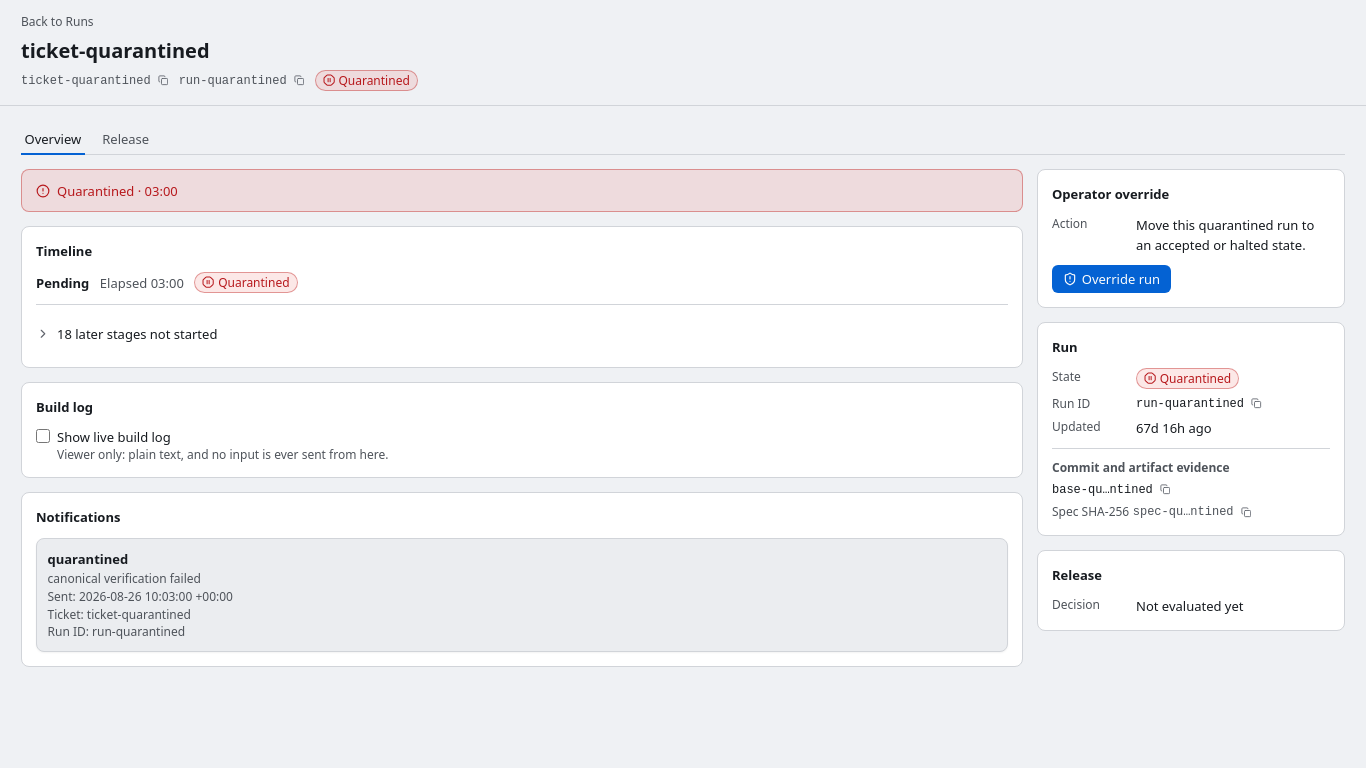
quarantined run override posts attribution and updates state
Click the button "Override run". click: (1111, 279)
box: top-left (1052, 265), bottom-right (1171, 293)
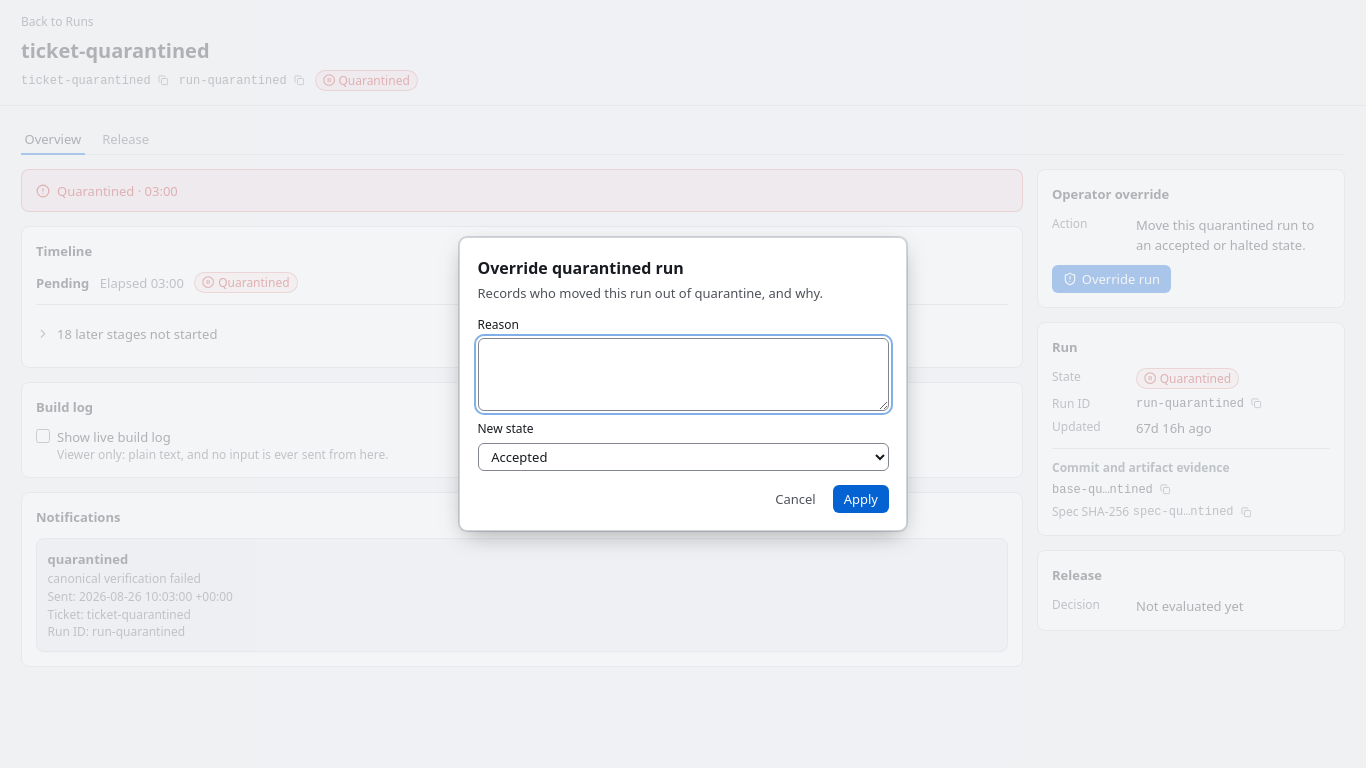
Type "Reviewed the verification evidence" into the text box labelled "Reason". click: (683, 375)
box: top-left (478, 338), bottom-right (888, 411)
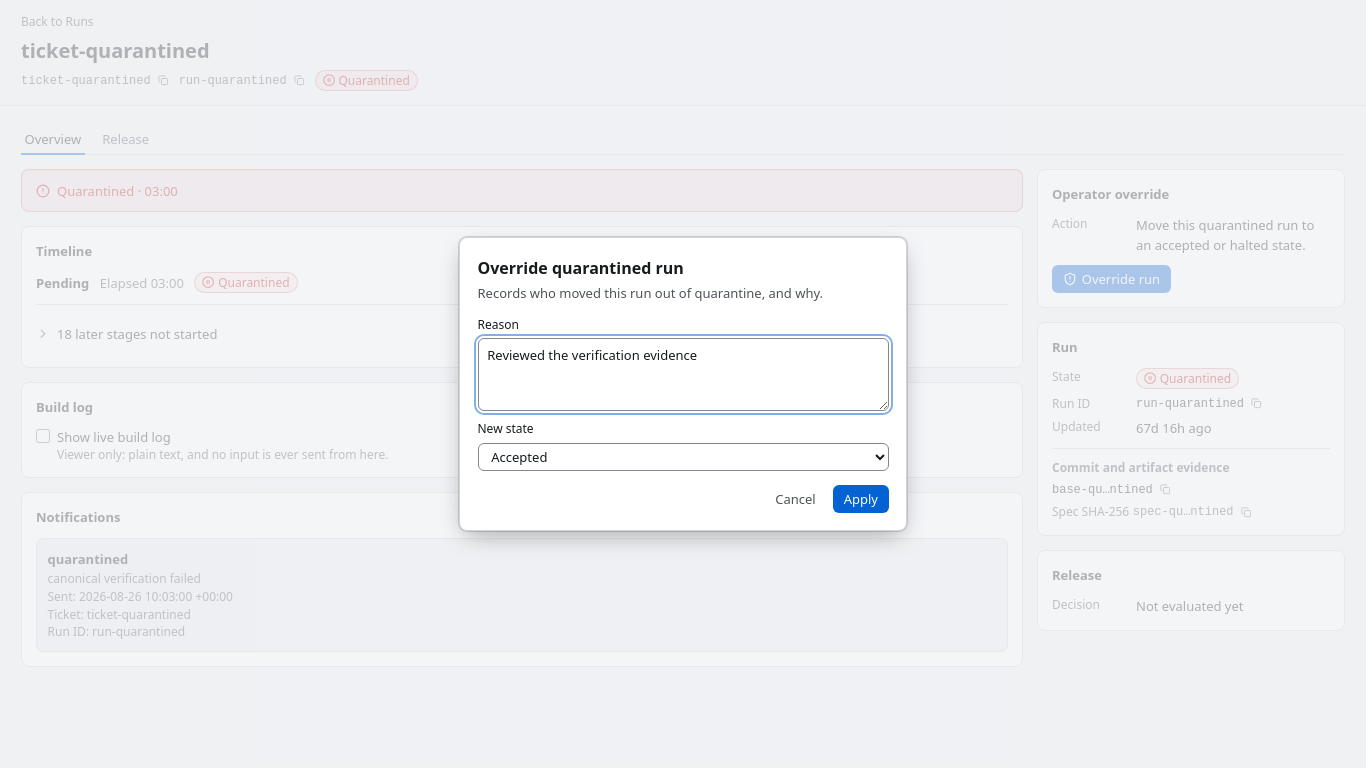
Click the button "Apply". click: (861, 498)
box: top-left (833, 484), bottom-right (888, 512)
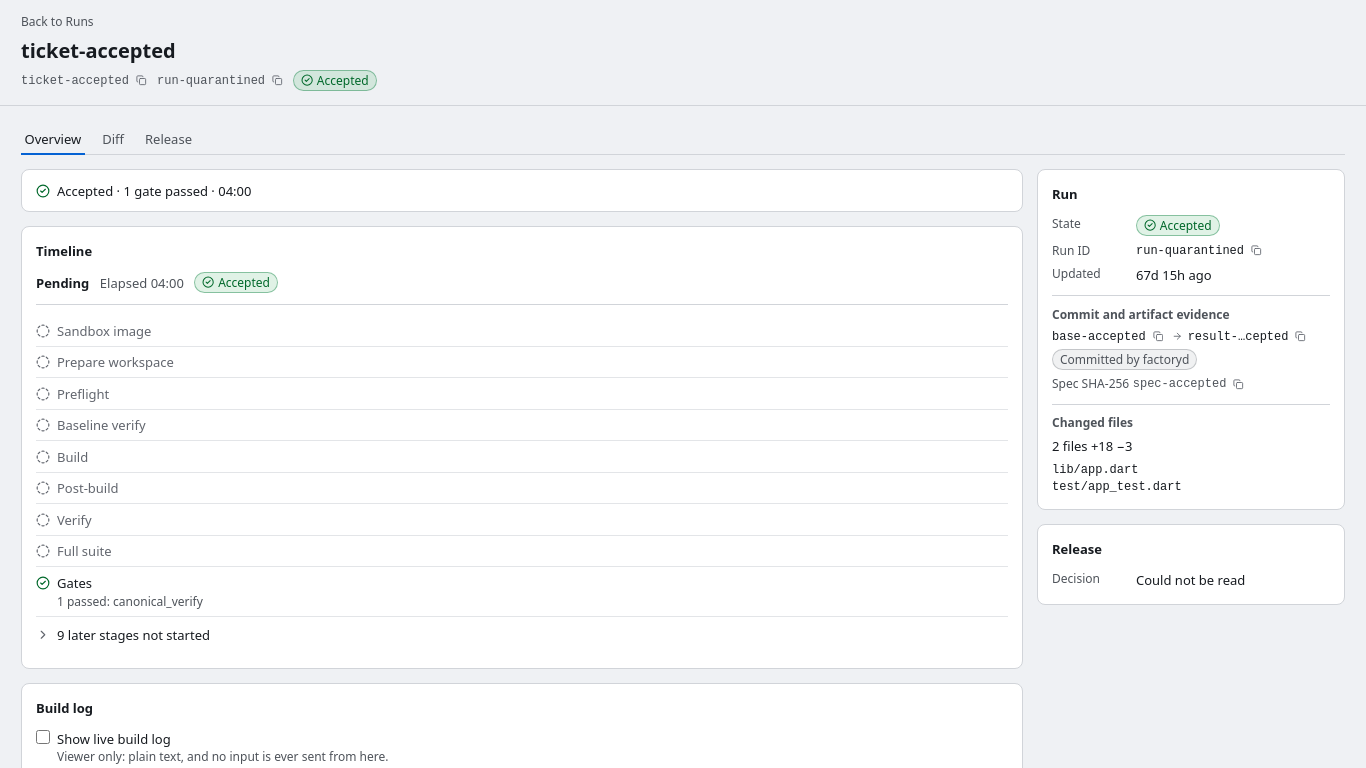
Now the text "Accepted" below "Back to Runs" is shown, box top-left (317, 72), bottom-right (369, 88)
Now the button "Override run" is gone
